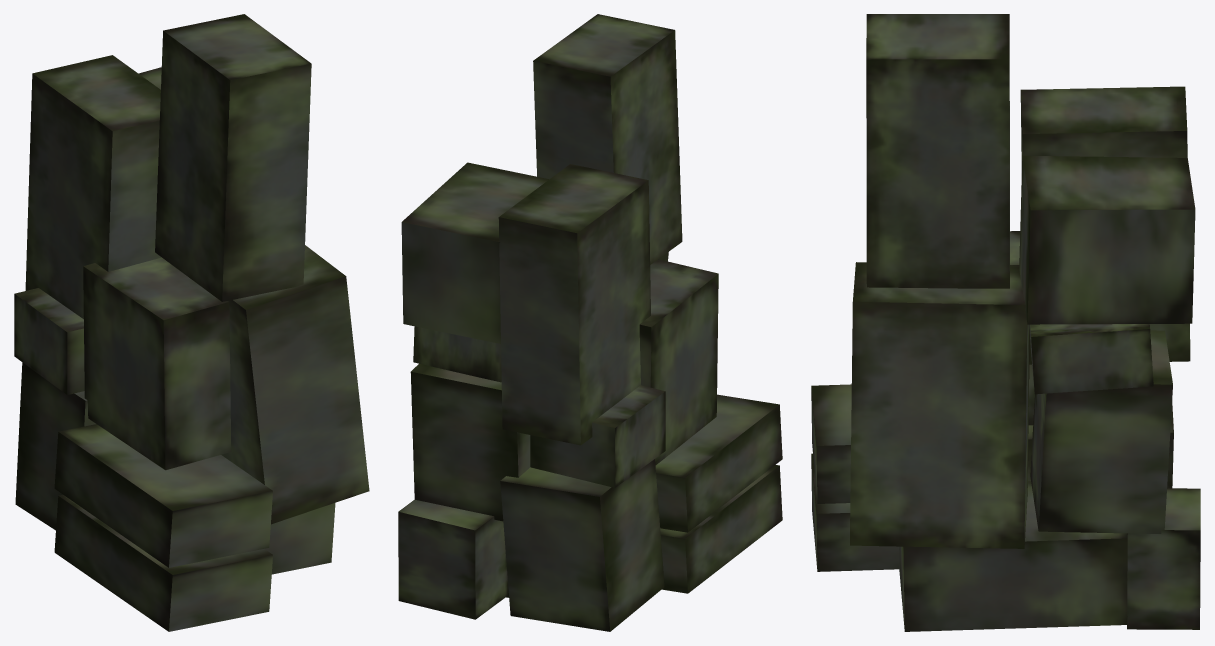
Rendered from ruin-pillar-03.fbx.
3 renders of one model, left to right at view 1: azimuth 30°, elevation 25°; view 2: azimuth 150°, elevation 25°; view 3: azimuth 270°, elevation 25°, orthographic. The views are drawn at different scales.
Visible parts, largest first — view 1: pillar_03; view 2: pillar_03; view 3: pillar_03.
Part boxes in pixels (x1,y1,x2,y2): pillar_03: (14, 14, 369, 631); pillar_03: (398, 14, 782, 631); pillar_03: (811, 14, 1200, 631).
Size of the model in its own units: 175 by 370 by 235.
